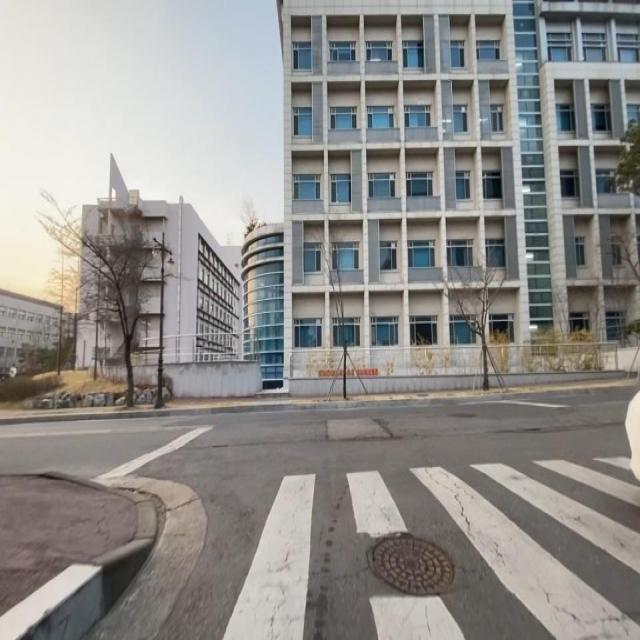sidewalk: (0, 378, 640, 417), (0, 475, 158, 619)
